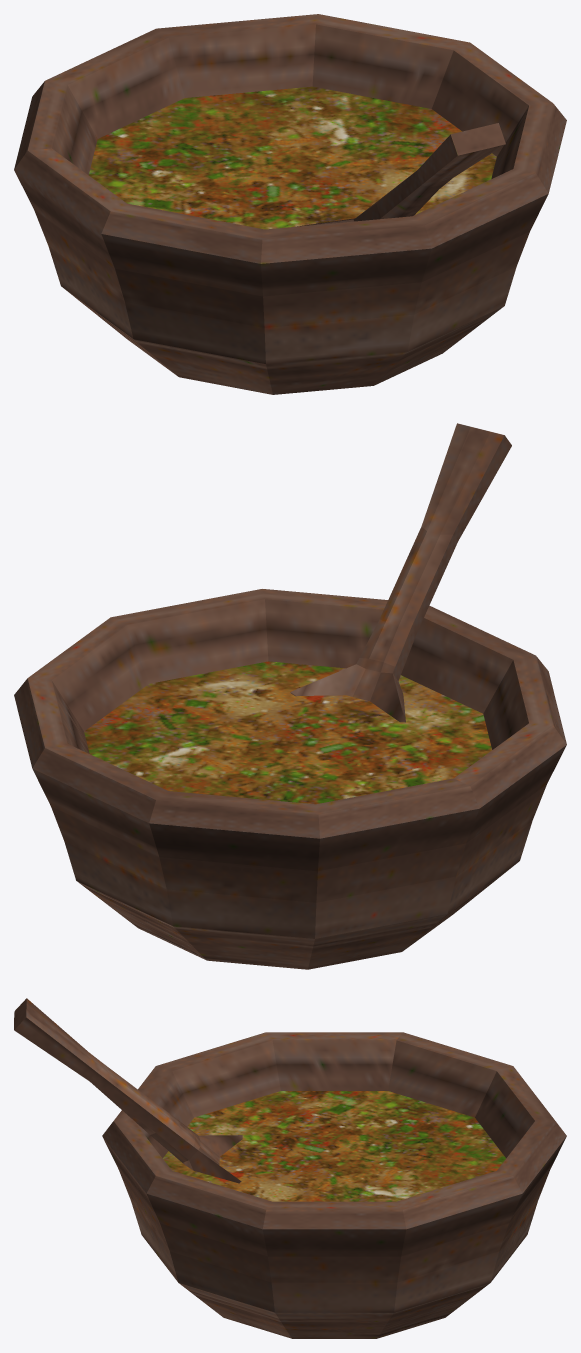
File: Bowl_Soup_with_spoon.fbx
3 views of the same model, one above another, from view 1: azimuth 30°, elevation 25°; view 2: azimuth 150°, elevation 25°; view 3: azimuth 270°, elevation 25° (orthographic). The views are drawn at different scales.
Visible parts, largest first — view 1: Soup; view 2: Soup; view 3: Soup.
Part boxes in pixels (x1,y1,x2,y2): Soup: (14, 14, 566, 394); Soup: (14, 423, 566, 969); Soup: (14, 998, 566, 1338).
Size of the model in its own units: 205 by 141 by 256.
Materials: 2 (2 with a texture image).
